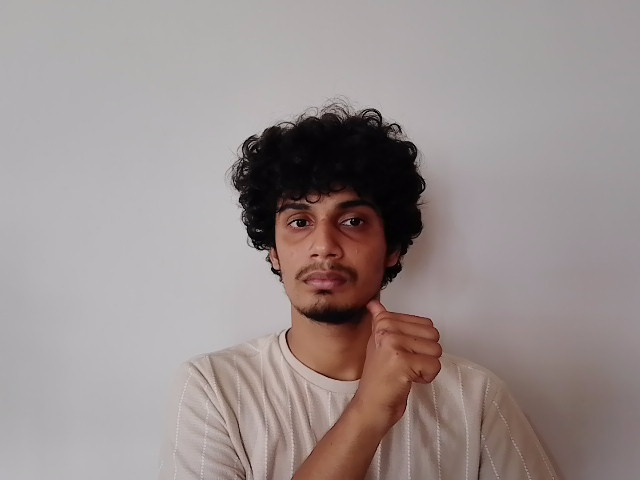not: (280, 288, 446, 393)
